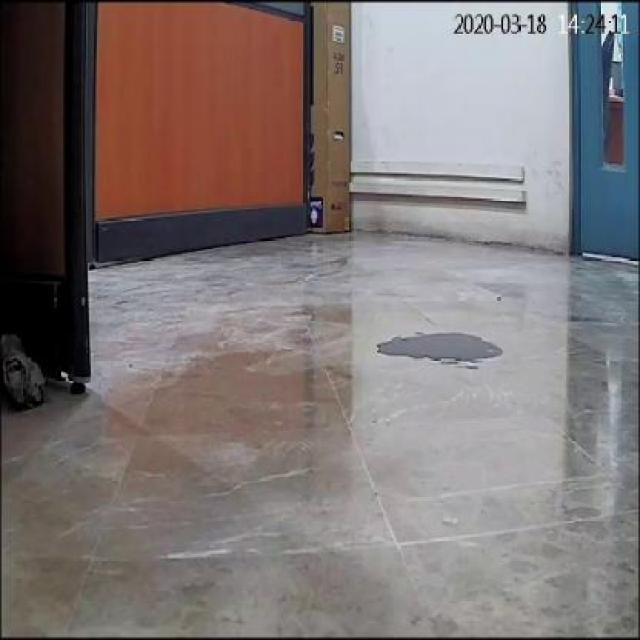spill: (370, 328, 501, 362)
